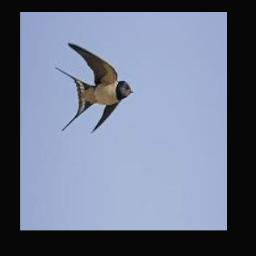Swallow: (54, 42, 133, 132)
